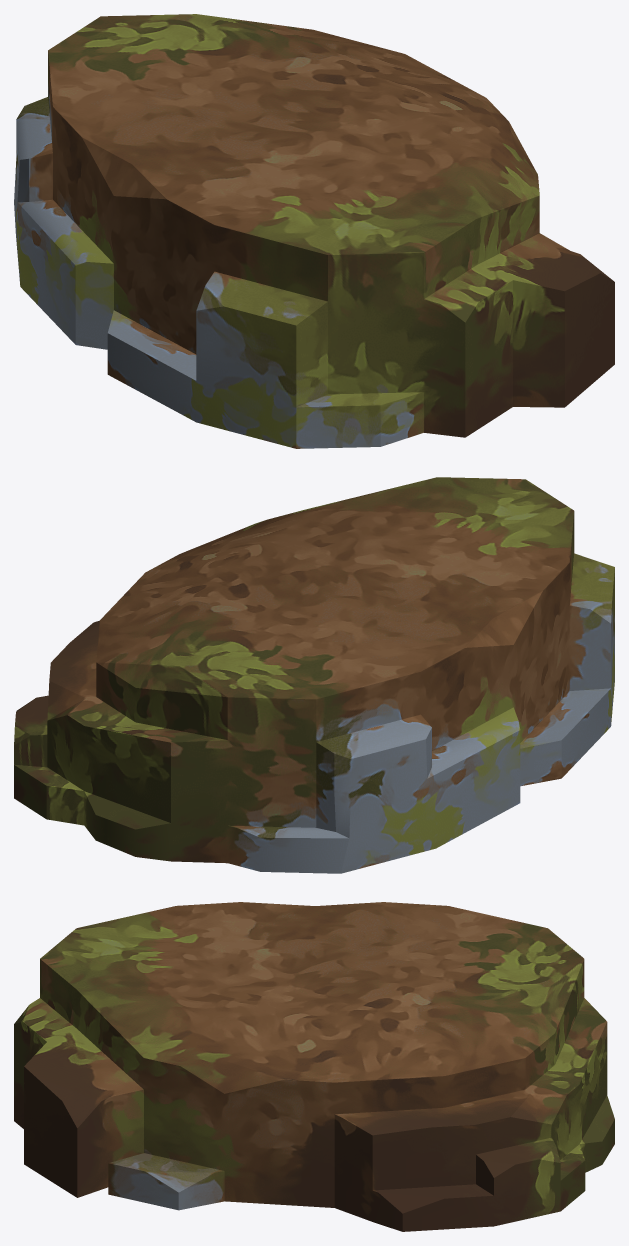
The model's file is platforma_3.obj.
3 views of the same model, one above another, from view 1: azimuth 30°, elevation 25°; view 2: azimuth 150°, elevation 25°; view 3: azimuth 270°, elevation 25° (orthographic). The views are drawn at different scales.
Parts seen in each view (by area): view 1: Cylinder; view 2: Cylinder; view 3: Cylinder.
Boxes of the visible parts, x1,y1,x2,y2 form: Cylinder: (14, 14, 614, 448); Cylinder: (14, 477, 614, 873); Cylinder: (14, 902, 614, 1231).
Bounding box in the file's own units: 45.74 × 16.62 × 59.7.
Materials: 1 (1 with a texture image).
